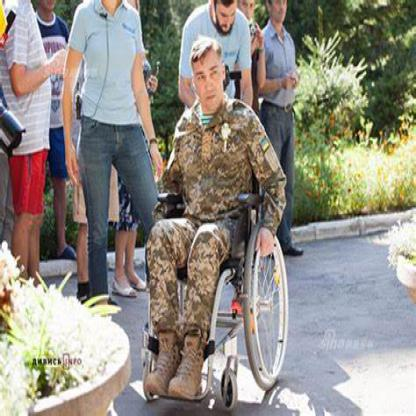wheelchair: (142, 37, 291, 407)
